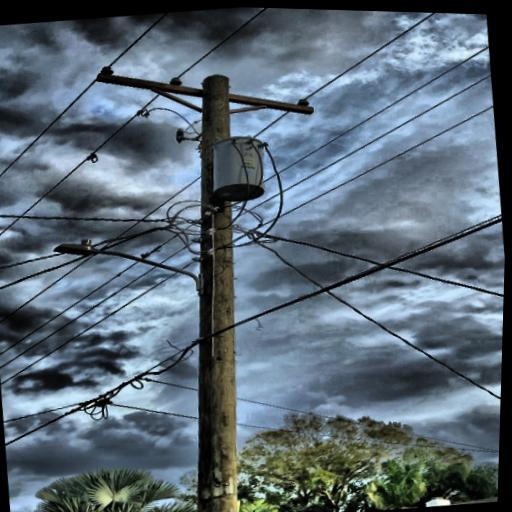pole: (136, 66, 280, 512)
street light: (48, 225, 211, 312)
transformer: (201, 131, 272, 208)
